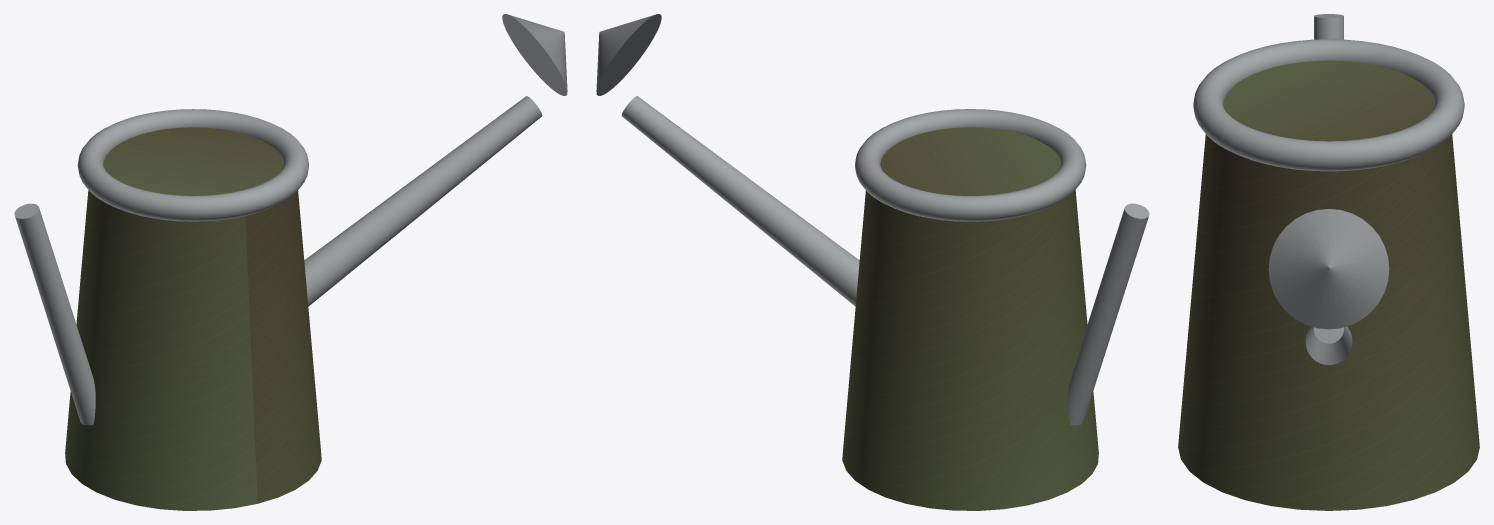
Rendered from state-default.glb.
3 renders of one model, left to right at view 1: azimuth 30°, elevation 25°; view 2: azimuth 150°, elevation 25°; view 3: azimuth 270°, elevation 25°, orthographic. The views are drawn at different scales.
Visible parts, largest first — view 1: assetPrim:60e08e06242f38-19c74564e1e:wc-body, assetPrim:60e08e06242f38-19c74564e1e:wc-handle-top, assetPrim:60e08e06242f38-19c74564e1e:wc-spout, assetPrim:60e08e06242f38-19c74564e1e:wc-handle-back, assetPrim:60e08e06242f38-19c74564e1e:wc-rose; view 2: assetPrim:60e08e06242f38-19c74564e1e:wc-body, assetPrim:60e08e06242f38-19c74564e1e:wc-handle-top, assetPrim:60e08e06242f38-19c74564e1e:wc-spout, assetPrim:60e08e06242f38-19c74564e1e:wc-handle-back, assetPrim:60e08e06242f38-19c74564e1e:wc-rose; view 3: assetPrim:60e08e06242f38-19c74564e1e:wc-body, assetPrim:60e08e06242f38-19c74564e1e:wc-handle-top, assetPrim:60e08e06242f38-19c74564e1e:wc-rose, assetPrim:60e08e06242f38-19c74564e1e:wc-spout, assetPrim:60e08e06242f38-19c74564e1e:wc-handle-back.
Boxes of the visible parts, x1=… form: assetPrim:60e08e06242f38-19c74564e1e:wc-body: x1=65, y1=127, x2=321, y2=510; assetPrim:60e08e06242f38-19c74564e1e:wc-handle-top: x1=77, y1=109, x2=308, y2=221; assetPrim:60e08e06242f38-19c74564e1e:wc-spout: x1=304, y1=96, x2=542, y2=306; assetPrim:60e08e06242f38-19c74564e1e:wc-handle-back: x1=14, y1=203, x2=95, y2=425; assetPrim:60e08e06242f38-19c74564e1e:wc-rose: x1=502, y1=14, x2=567, y2=95; assetPrim:60e08e06242f38-19c74564e1e:wc-body: x1=842, y1=127, x2=1098, y2=510; assetPrim:60e08e06242f38-19c74564e1e:wc-handle-top: x1=855, y1=109, x2=1086, y2=221; assetPrim:60e08e06242f38-19c74564e1e:wc-spout: x1=621, y1=96, x2=859, y2=306; assetPrim:60e08e06242f38-19c74564e1e:wc-handle-back: x1=1068, y1=203, x2=1149, y2=425; assetPrim:60e08e06242f38-19c74564e1e:wc-rose: x1=596, y1=14, x2=661, y2=95; assetPrim:60e08e06242f38-19c74564e1e:wc-body: x1=1178, y1=60, x2=1479, y2=510; assetPrim:60e08e06242f38-19c74564e1e:wc-handle-top: x1=1193, y1=39, x2=1464, y2=171; assetPrim:60e08e06242f38-19c74564e1e:wc-rose: x1=1268, y1=209, x2=1389, y2=329; assetPrim:60e08e06242f38-19c74564e1e:wc-spout: x1=1305, y1=326, x2=1352, y2=364; assetPrim:60e08e06242f38-19c74564e1e:wc-handle-back: x1=1314, y1=14, x2=1343, y2=39.
Bounding box in the file's own units: 0.4925 × 0.3088 × 0.2.
Materials: 5 (1 with a texture image).
